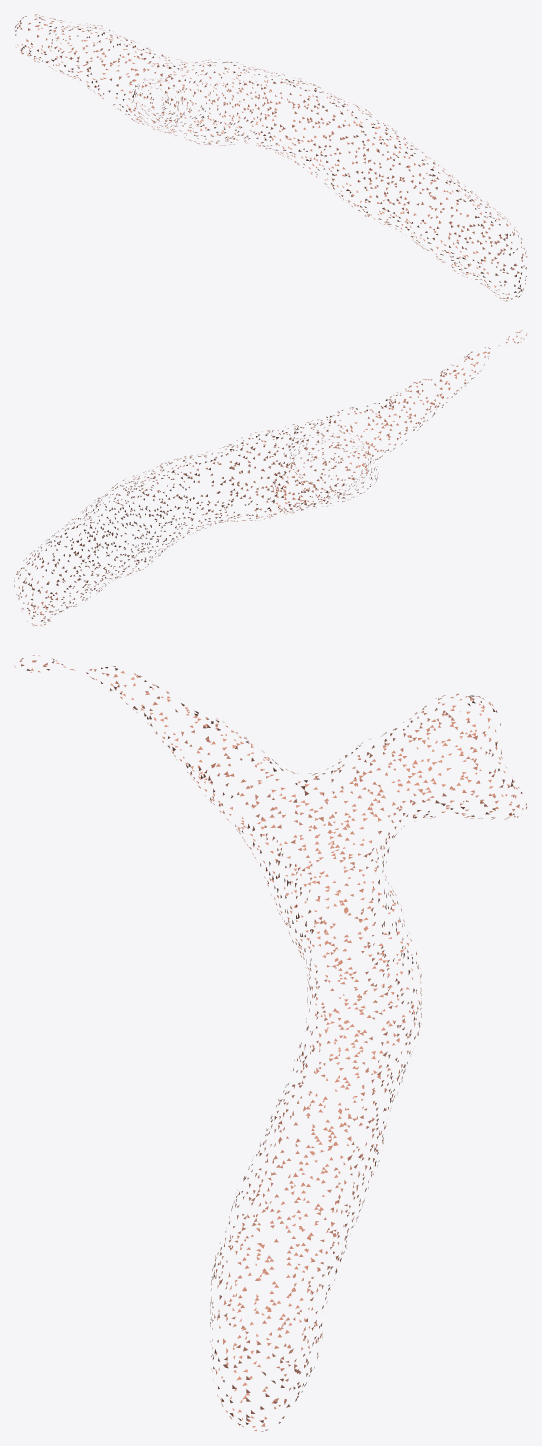
File: morph_003.glb
The picture shows the model from 3 angles, top to bottom: view 1: azimuth 30°, elevation 25°; view 2: azimuth 150°, elevation 25°; view 3: azimuth 270°, elevation 25°; orthographic projection. The views are drawn at different scales.
Size of the model in its own units: 109 by 83.09 by 78.91.
